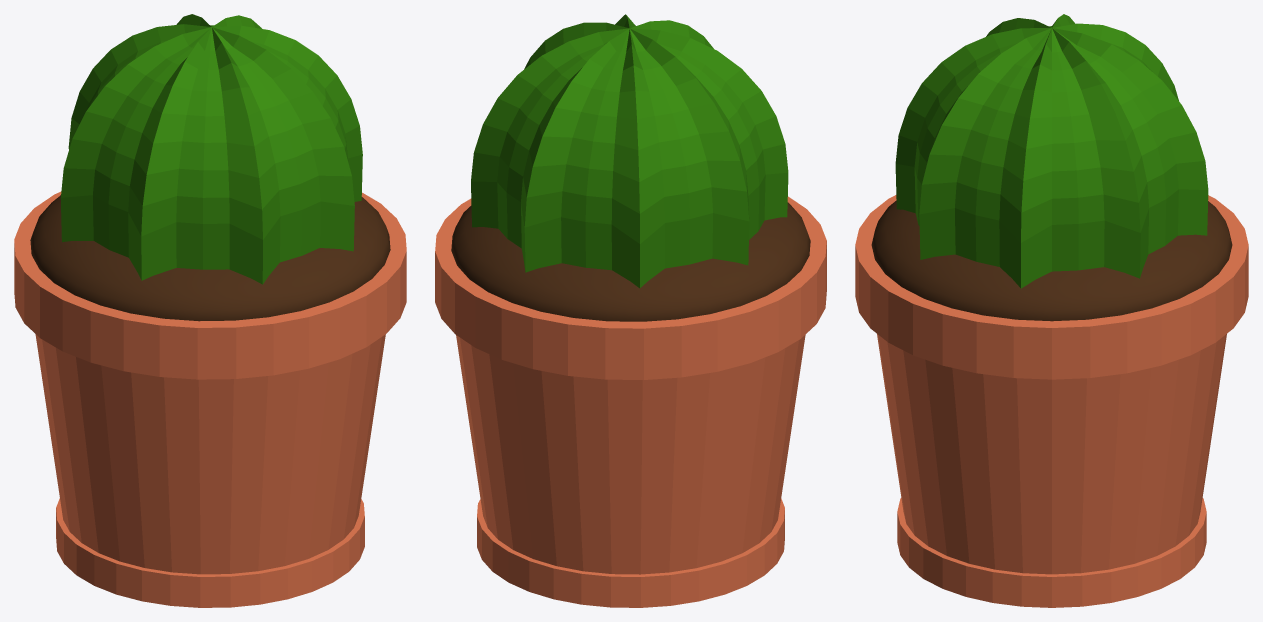
Rendered from Cactus4.fbx.
The picture shows the model from 3 angles, left to right: view 1: azimuth 30°, elevation 25°; view 2: azimuth 150°, elevation 25°; view 3: azimuth 270°, elevation 25°; orthographic projection.
Visible parts, largest first — view 1: Vase.003, Sphere.011, Sphere.010; view 2: Vase.003, Sphere.011, Sphere.010; view 3: Vase.003, Sphere.011, Sphere.010.
Boxes of the visible parts, x1,y1,x2,y2 form: Vase.003: [14, 191, 406, 607]; Sphere.011: [60, 14, 362, 284]; Sphere.010: [30, 195, 390, 321]; Vase.003: [435, 196, 826, 607]; Sphere.011: [471, 14, 788, 288]; Sphere.010: [451, 202, 810, 321]; Vase.003: [855, 195, 1248, 607]; Sphere.011: [895, 14, 1208, 288]; Sphere.010: [871, 200, 1232, 321].
Bounding box in the file's own units: 218 × 315 × 218.
